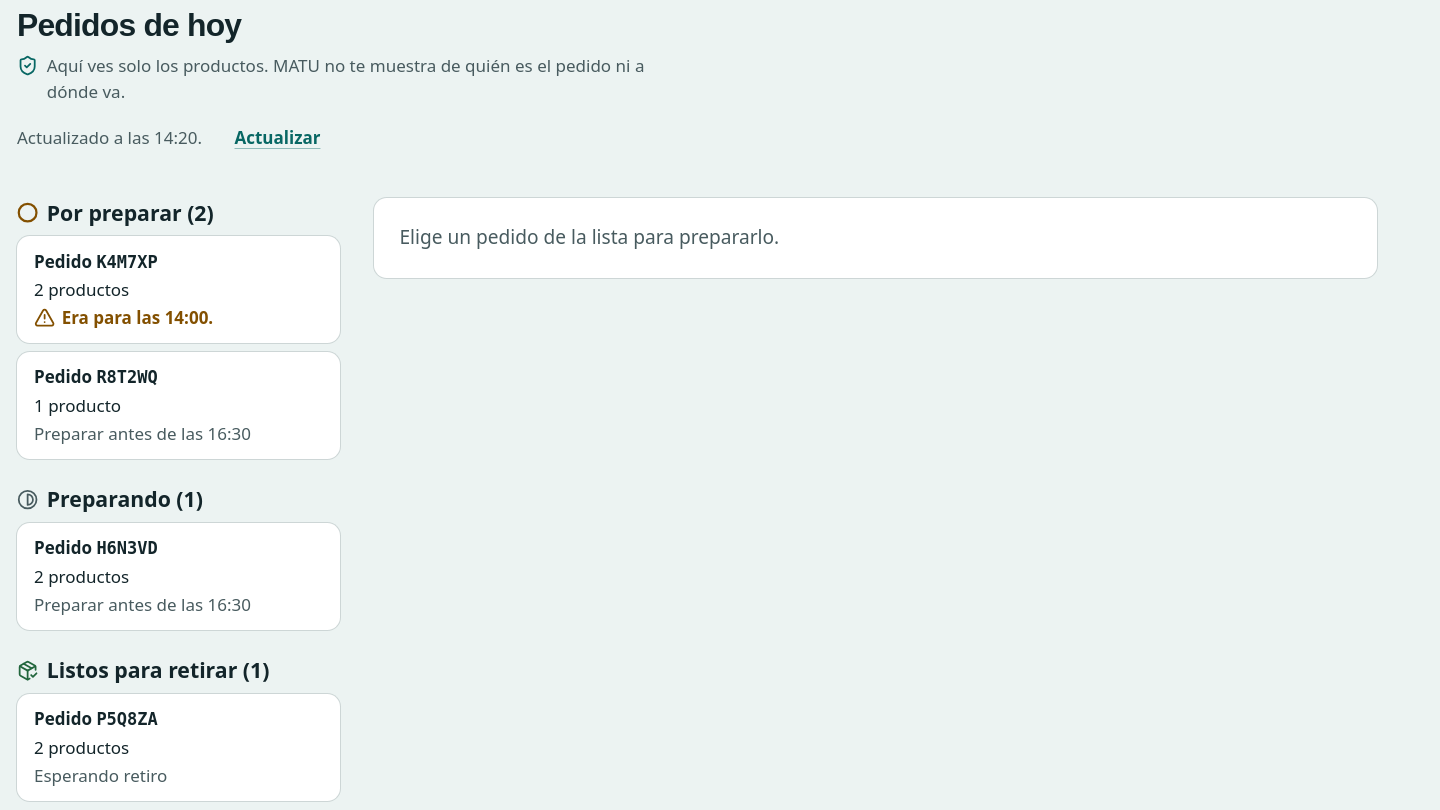
P1 › 1: al elegir una parte, el foco queda en el h1 del pedido ya cargado (no en body)
(page scrolled)
Expected: the heading "Por preparar (2)" is shown, x1=47 y1=198 x2=214 y2=226
Click the button "Pedido R8T2WQ 1 producto Preparar antes de las 16:30" at (63, 377), box x1=17 y1=352 x2=340 y2=459
(page scrolled)
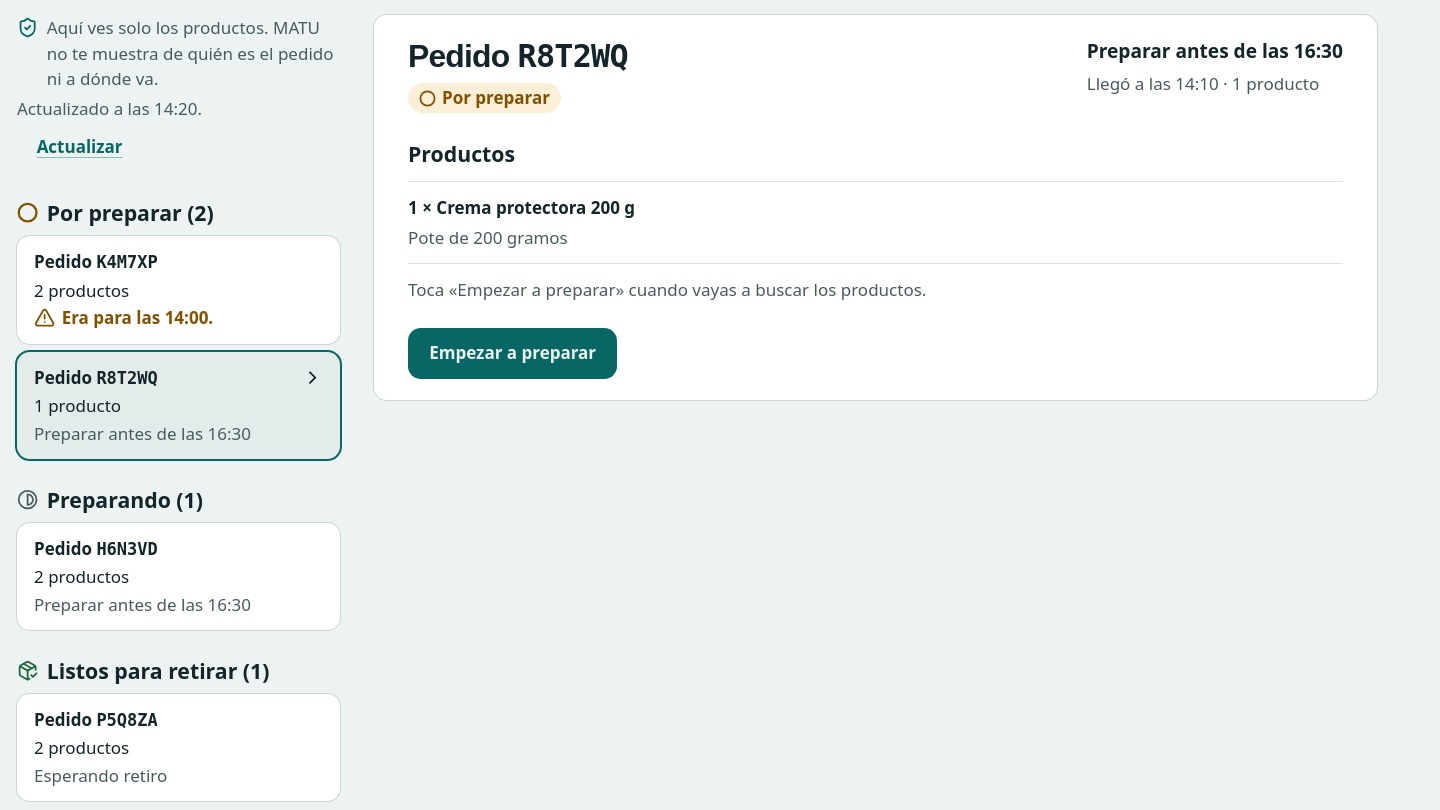
Now the heading "Productos" is shown, box x1=408 y1=138 x2=515 y2=168
